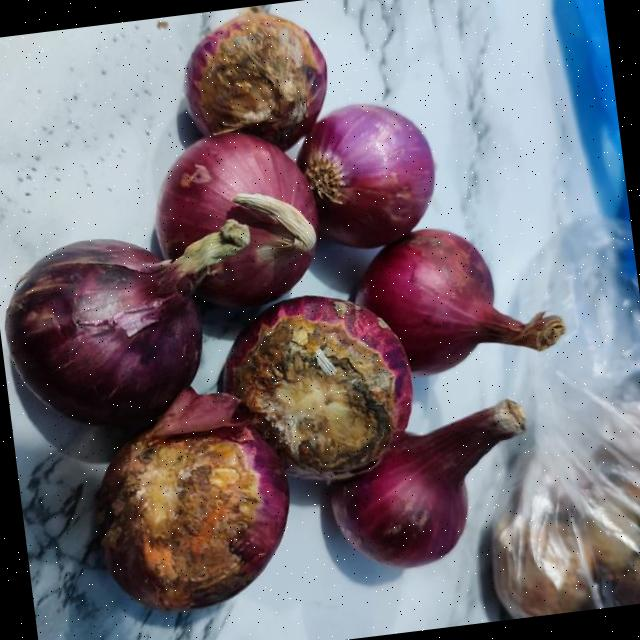Onion: (4, 220, 247, 426), (96, 426, 287, 613), (329, 406, 514, 569), (355, 230, 563, 374), (155, 132, 317, 306), (297, 105, 434, 247), (184, 12, 325, 149)
